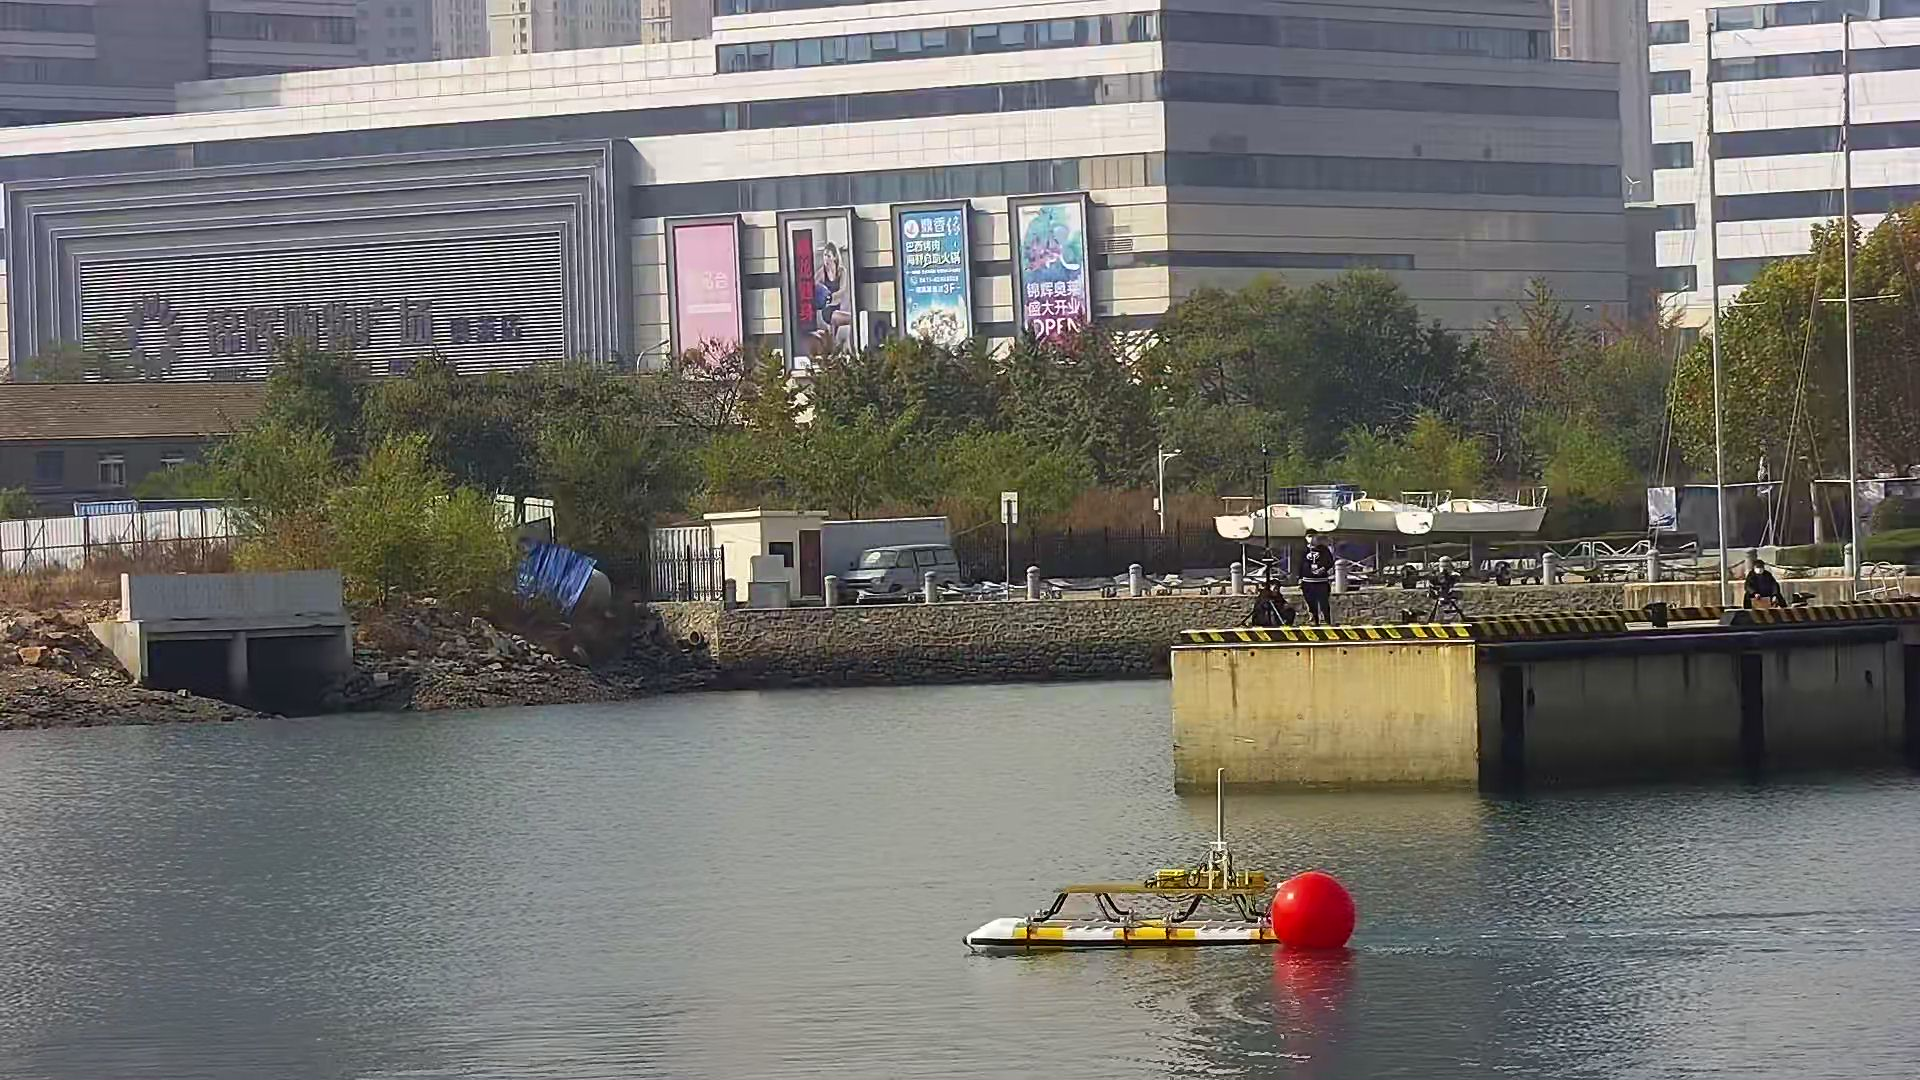ball: (1263, 876, 1361, 955)
boat: (953, 869, 1280, 951)
